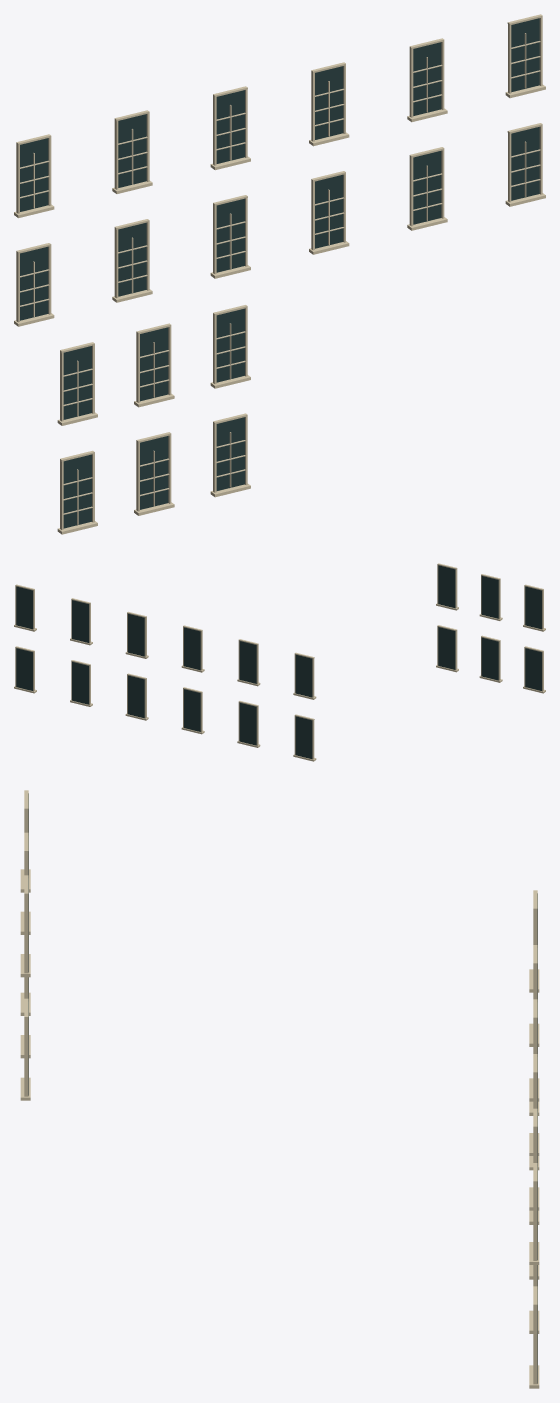
Rendered from KOL_T1_GPO__08_Secondary.fbx.
3 renders of one model, top to bottom at view 1: azimuth 30°, elevation 25°; view 2: azimuth 150°, elevation 25°; view 3: azimuth 270°, elevation 25°, orthographic. The views are drawn at different scales.
Parts seen in each view (by area): view 1: KOL_T1_GPO__08_Secondary__KOL_T1_HeritageGlass, KOL_T1_GPO__08_Secondary__KOL_T1_HeritageCream; view 2: KOL_T1_GPO__08_Secondary__KOL_T1_HeritageGlass, KOL_T1_GPO__08_Secondary__KOL_T1_HeritageCream; view 3: KOL_T1_GPO__08_Secondary__KOL_T1_HeritageCream, KOL_T1_GPO__08_Secondary__KOL_T1_HeritageGlass.
Part boxes in pixels (box(x1,y1,x2,y2)): KOL_T1_GPO__08_Secondary__KOL_T1_HeritageGlass: box(20, 18, 539, 528); KOL_T1_GPO__08_Secondary__KOL_T1_HeritageCream: box(14, 14, 545, 534); KOL_T1_GPO__08_Secondary__KOL_T1_HeritageGlass: box(16, 565, 541, 758); KOL_T1_GPO__08_Secondary__KOL_T1_HeritageCream: box(14, 563, 545, 761); KOL_T1_GPO__08_Secondary__KOL_T1_HeritageCream: box(20, 790, 539, 1388); KOL_T1_GPO__08_Secondary__KOL_T1_HeritageGlass: box(28, 793, 537, 1383).
Bounding box in the file's own units: 130 × 31.77 × 72.4.
